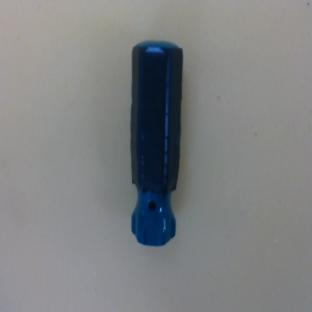part_2_bad: (127, 40, 182, 246)
